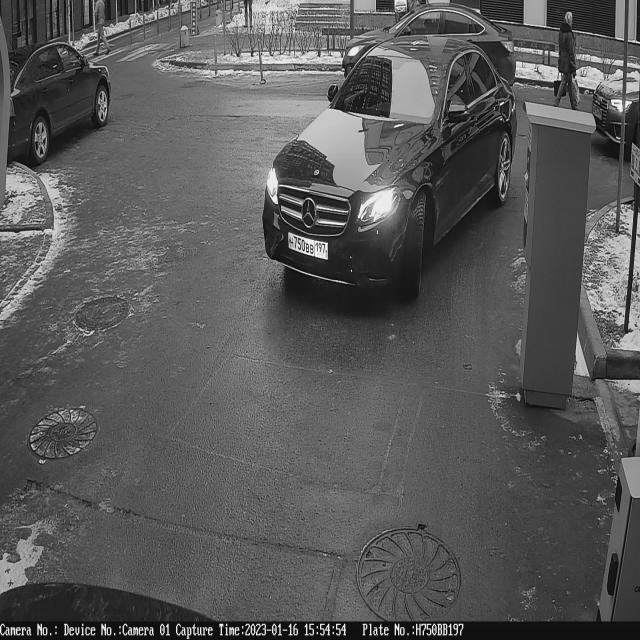car-plate-numbers: (287, 227, 332, 265)
